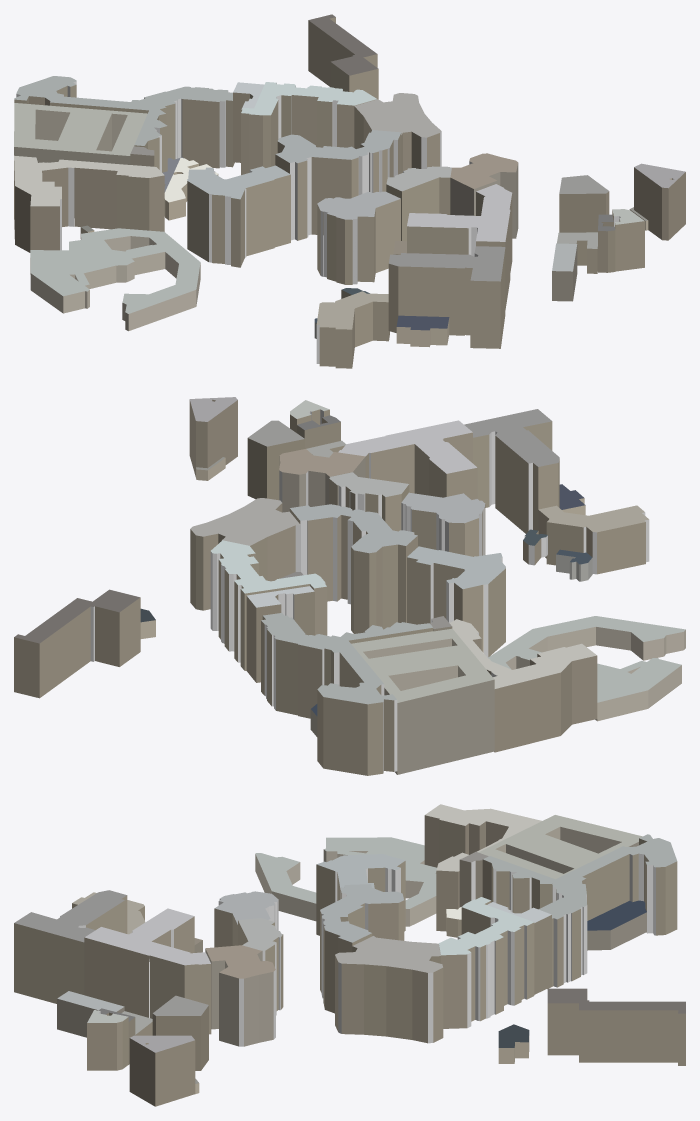
3 views of the same model, one above another, from view 1: azimuth 30°, elevation 25°; view 2: azimuth 150°, elevation 25°; view 3: azimuth 270°, elevation 25° (orthographic). The views are drawn at different scales.
Parts seen in each view (by area): view 1: tuile; view 2: tuile; view 3: tuile.
Boxes of the visible parts, x1,y1,x2,y2 form: tuile: [14, 14, 685, 368]; tuile: [14, 397, 685, 775]; tuile: [14, 804, 685, 1106].
Bounding box in the file's own units: 283 × 46 × 297.
